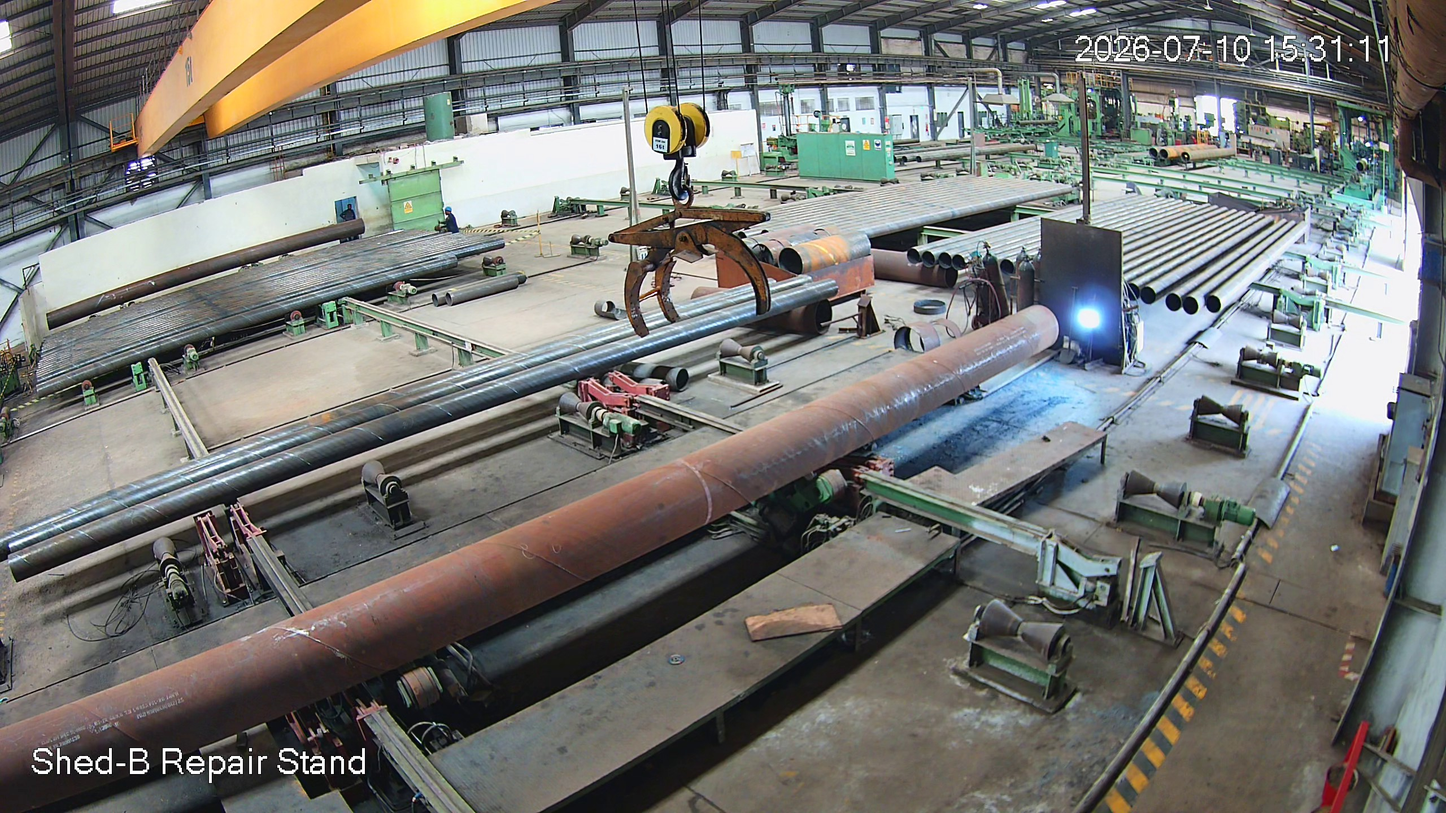Helmet: (443, 203, 454, 220)
Person: (442, 206, 460, 237)
